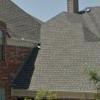Chimney: (63, 1, 82, 19)
